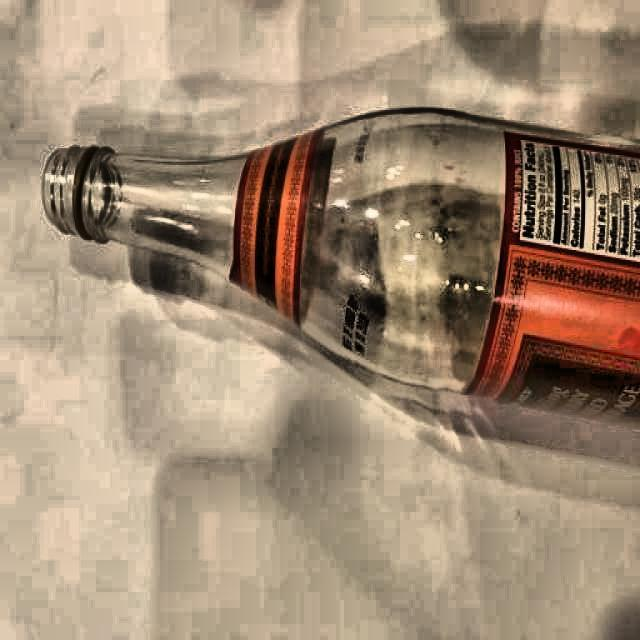glass: (43, 109, 640, 431)
